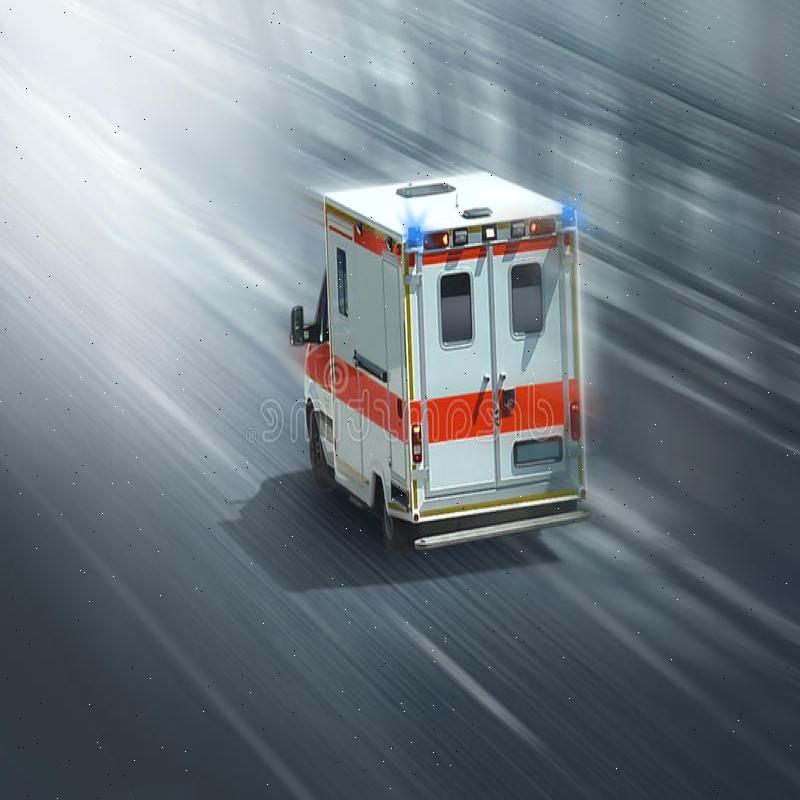ambulance: (286, 179, 600, 554)
